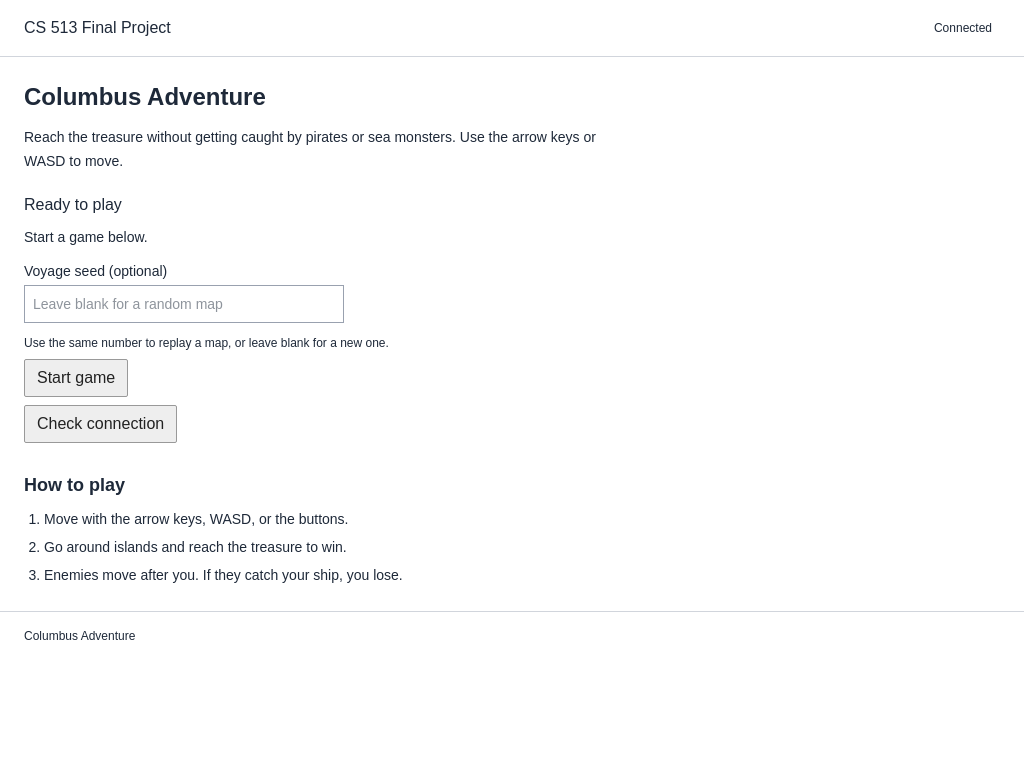
it: updates every entity and the turn count from the successful move response
The image size is (1024, 768).
Expected: the text "Connected" is shown, [934,21,992,35]
Click the button "Start game": [76, 378] box [24,359,128,397]
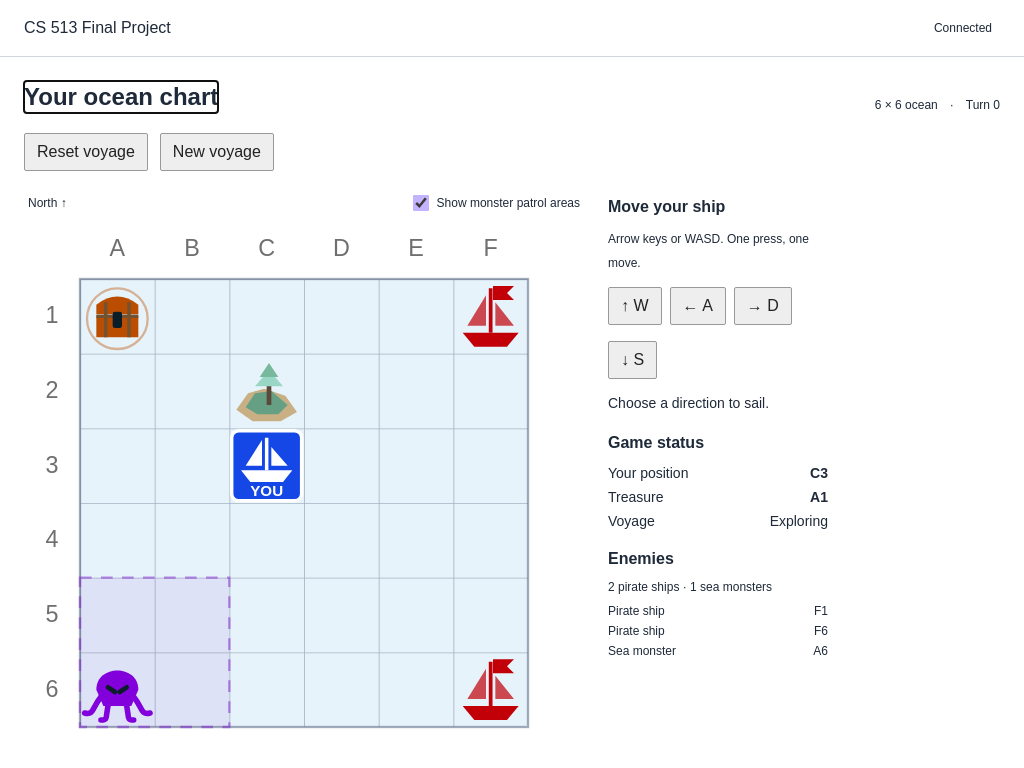
Now the heading "Your ocean chart" is shown, box [24,81,218,113]
Click the button named "Move south": [633, 360] box [608,341,657,379]
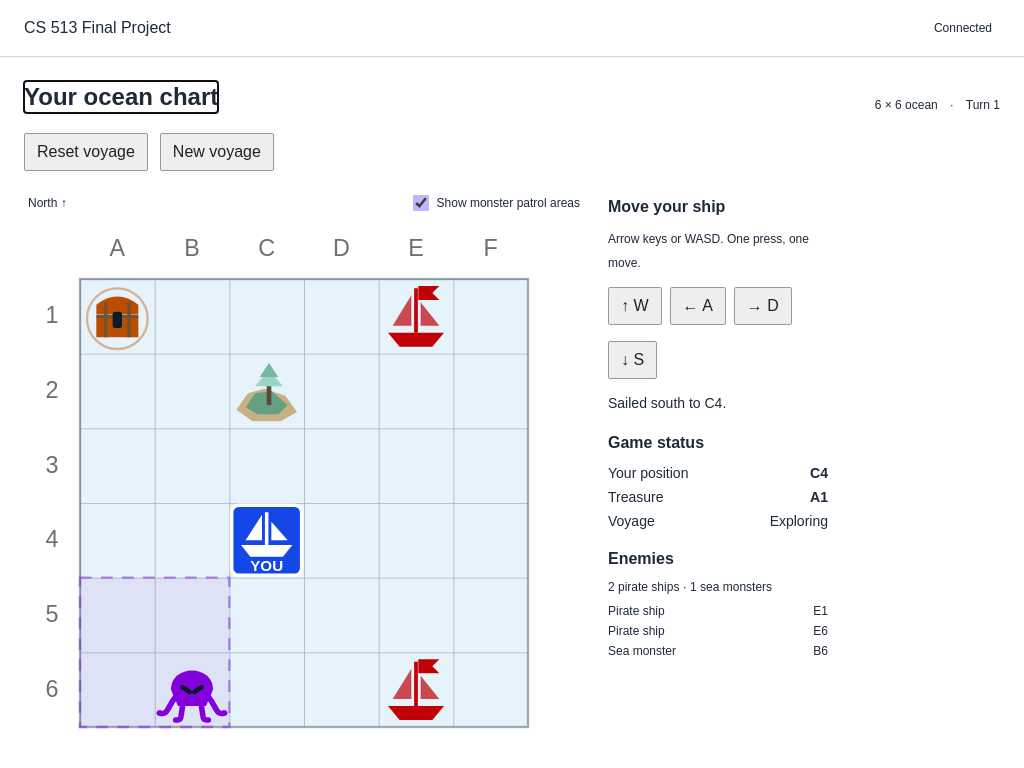
Now the text "Turn 1" is shown, box [966,97,1000,113]
Now the message named "Sailing feedback" reads "Sailed south to C4.", box [608,395,726,411]
